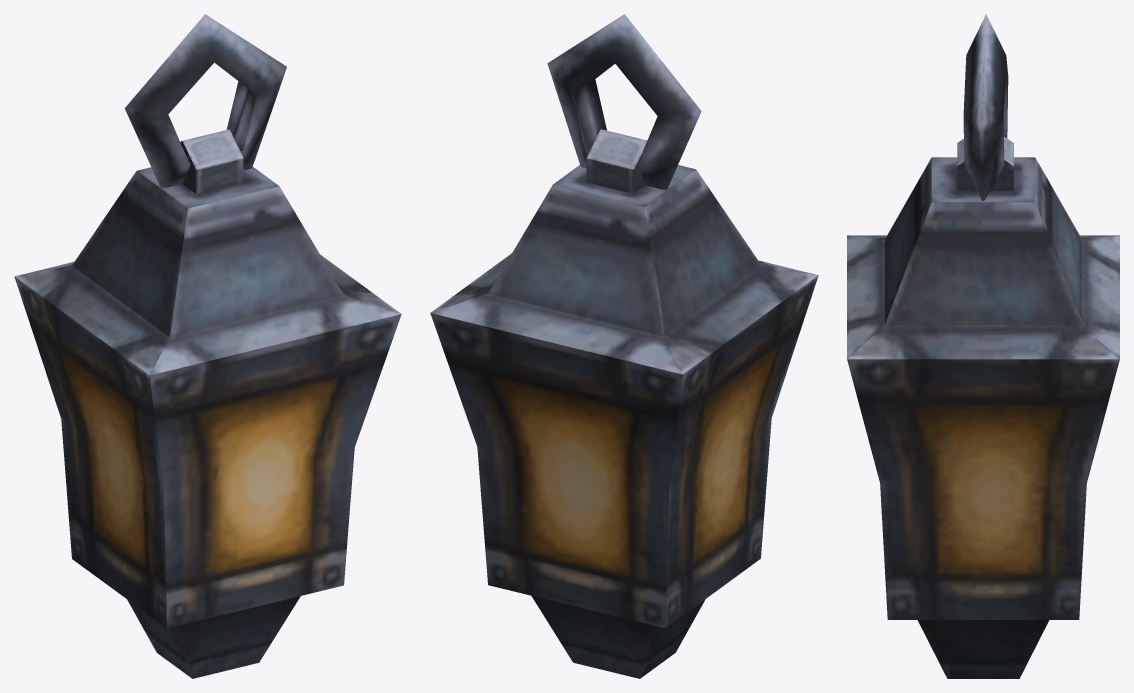
The model's file is mine_lantern01.fbx.
The picture shows the model from 3 angles, left to right: view 1: azimuth 30°, elevation 25°; view 2: azimuth 150°, elevation 25°; view 3: azimuth 270°, elevation 25°; orthographic projection.
Parts seen in each view (by area): view 1: mine_lantern01; view 2: mine_lantern01; view 3: mine_lantern01.
Part boxes in pixels (x1,y1,x2,y2): mine_lantern01: [14, 14, 401, 678]; mine_lantern01: [430, 14, 818, 678]; mine_lantern01: [847, 14, 1119, 678].
Size of the model in its own units: 0.4864 by 1.19 by 0.453.
